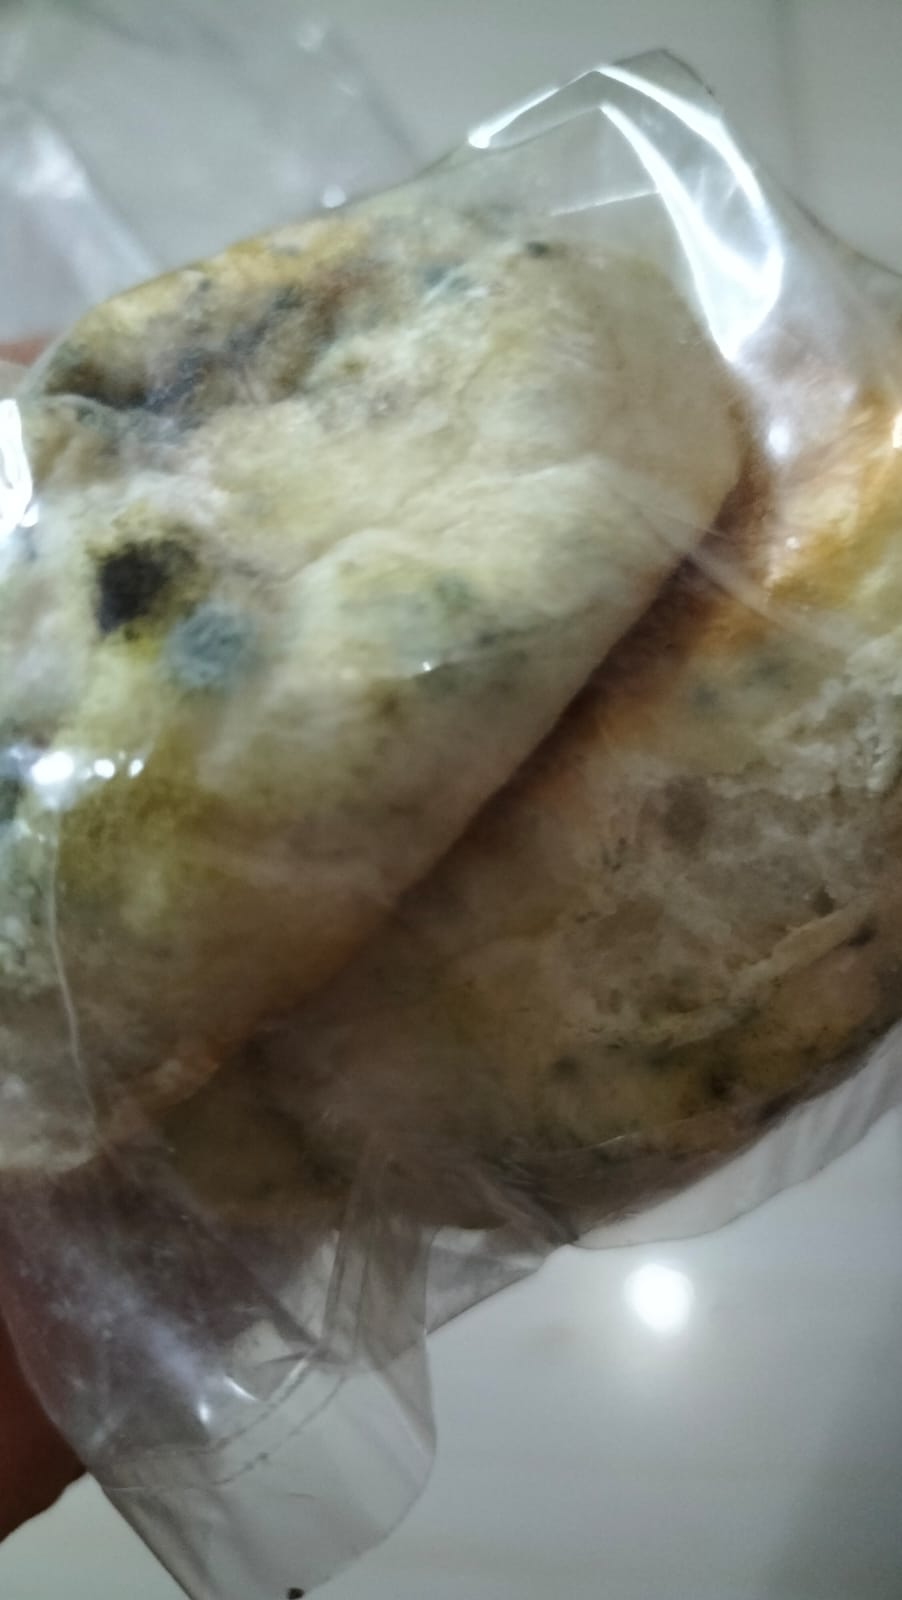mold_bread: (52, 285, 349, 431), (80, 523, 263, 701), (343, 560, 537, 722), (613, 973, 778, 1111), (689, 618, 798, 727), (416, 256, 482, 300), (543, 1049, 584, 1089), (521, 232, 555, 264)
